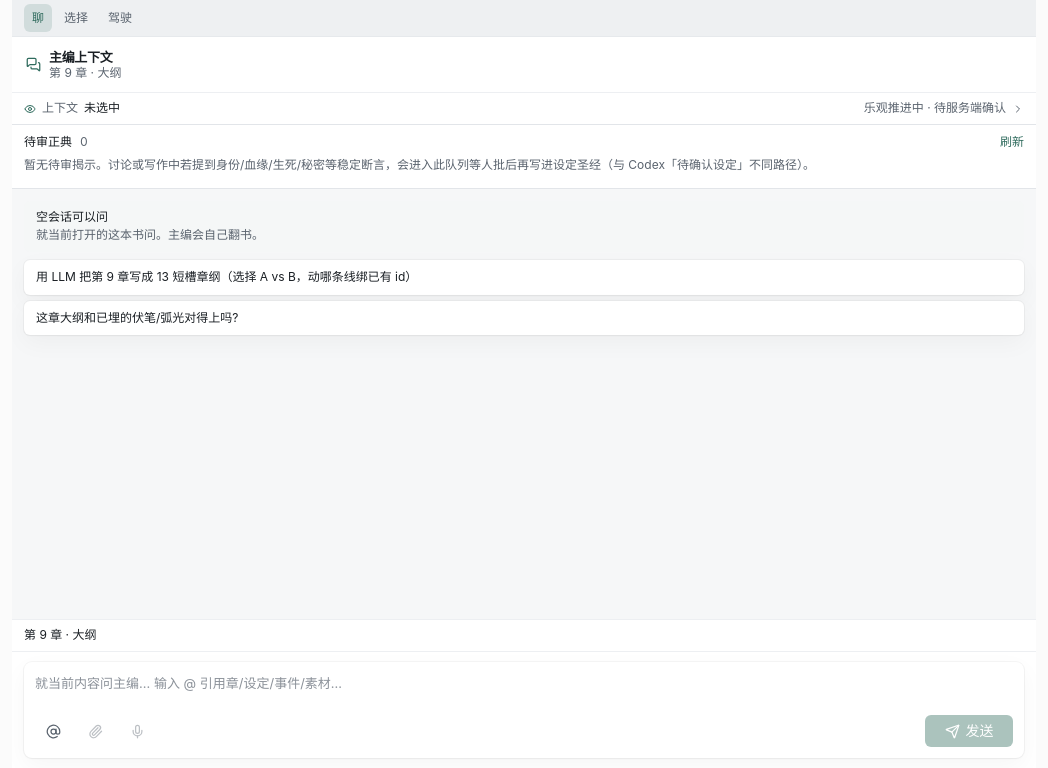
Scenario: ChiefDock run 上下文过期审批 › 无关焦点(run_context_stale)→ 二次确认带 approve_stale=true 重批后已批准
The image size is (1048, 768).
Type "请新增角色:柳怀玉的师父" into the text box with placeholder "就当前内容问主编… 输入 @ 引用章/设定/事件/素材…" at x=524, y=689, box [35,671,1013,707]
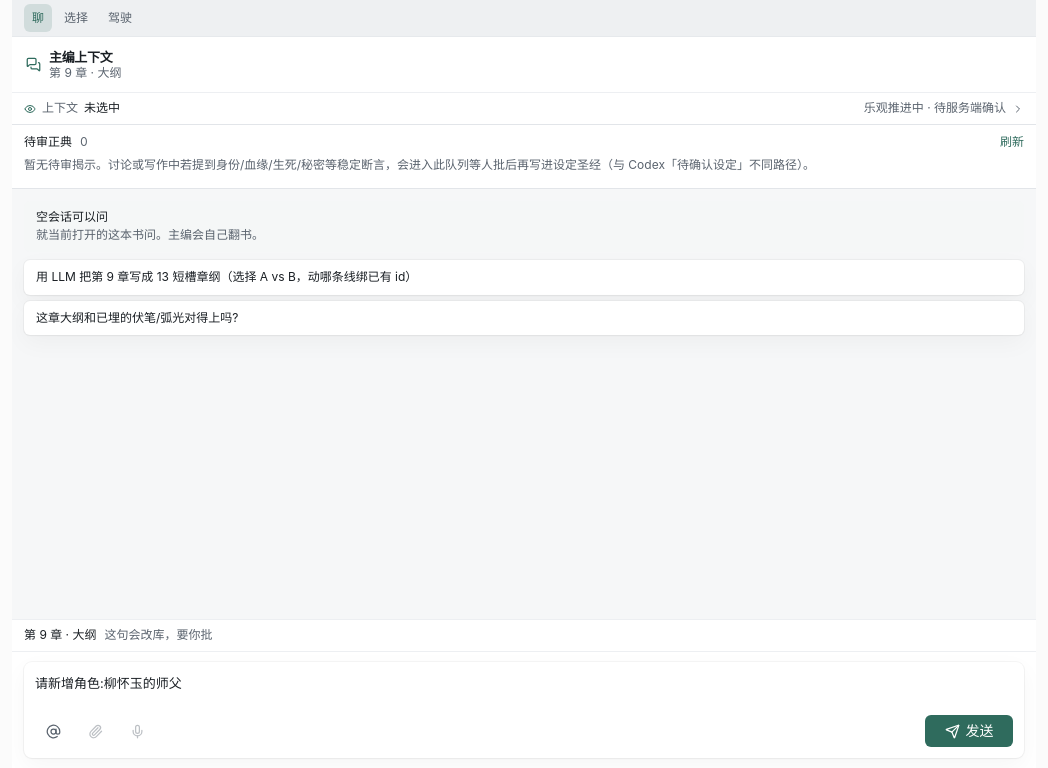
Click the button "发送" at x=969, y=731, box [925,715,1013,747]
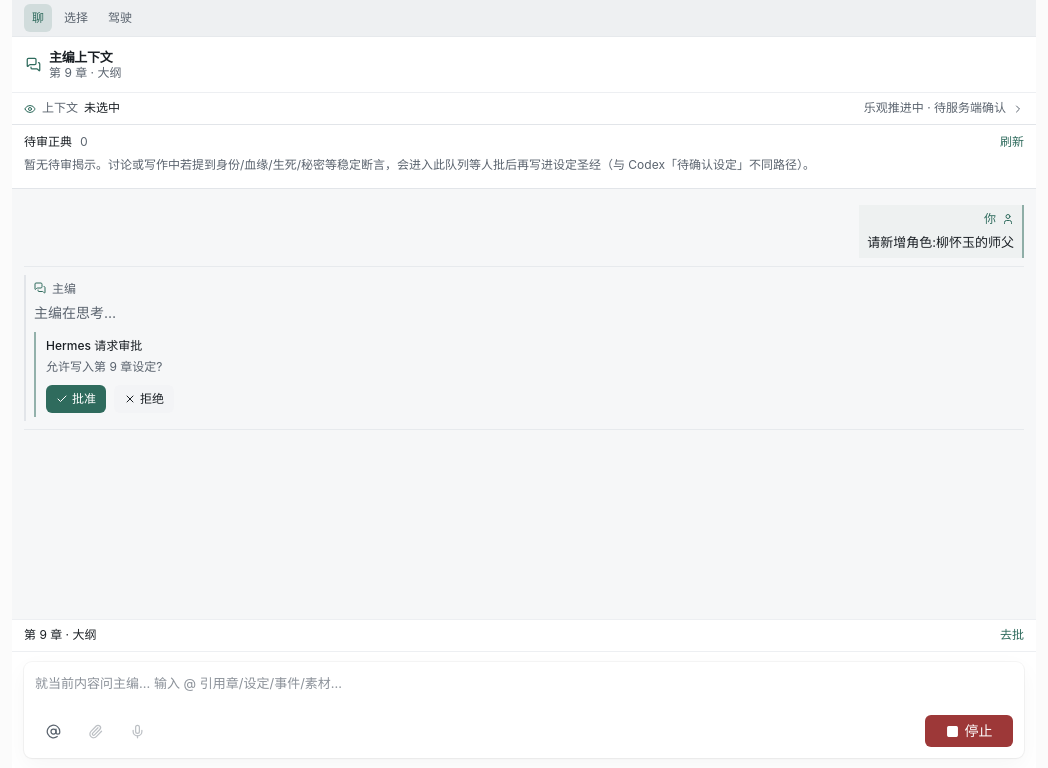
Result: the text "允许写入第 9 章设定?" is shown at [46,357,174,377]
Click the button "批准" at x=76, y=399, box [46,385,106,413]
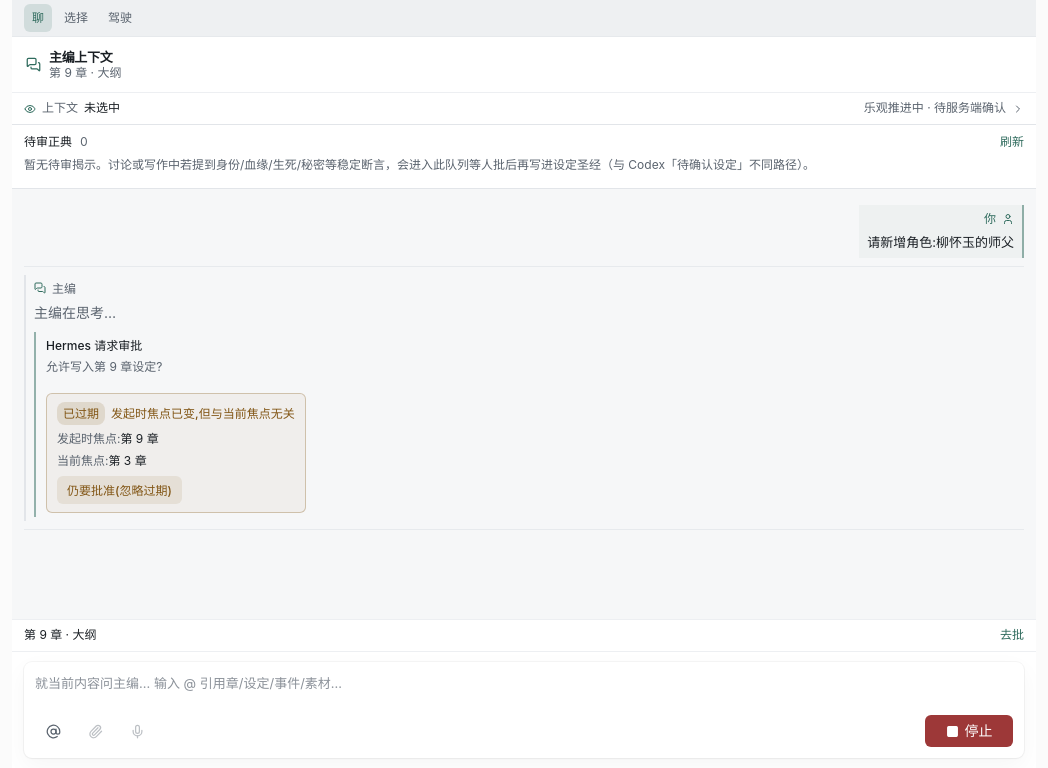
Result: the text with test id "run-origin-focus" reads "第 9 章" at [120,431,159,446]
Result: the text with test id "run-current-focus" reads "第 3 章" at [108,453,147,468]
Click the button with test id "run-approve-stale" at x=119, y=490, box [57,476,182,504]
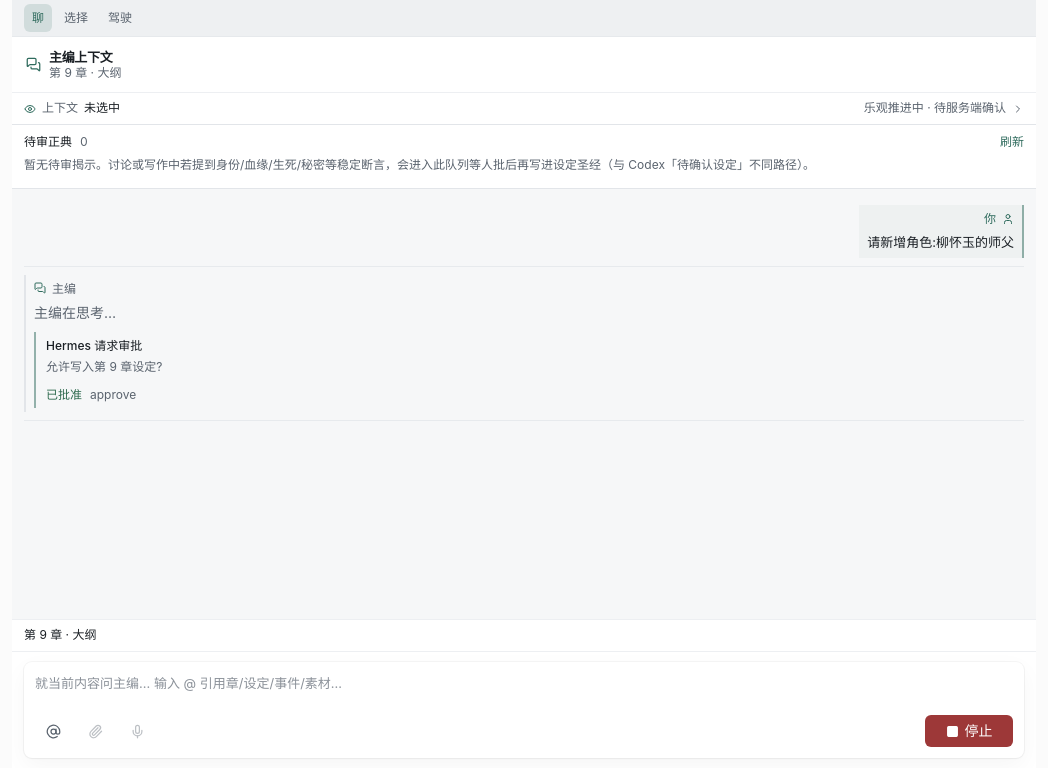
Result: the text "已批准" is shown at [46,385,82,404]
